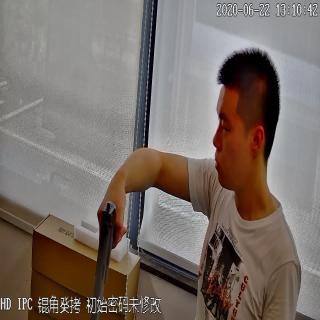gun: (89, 200, 127, 320)
